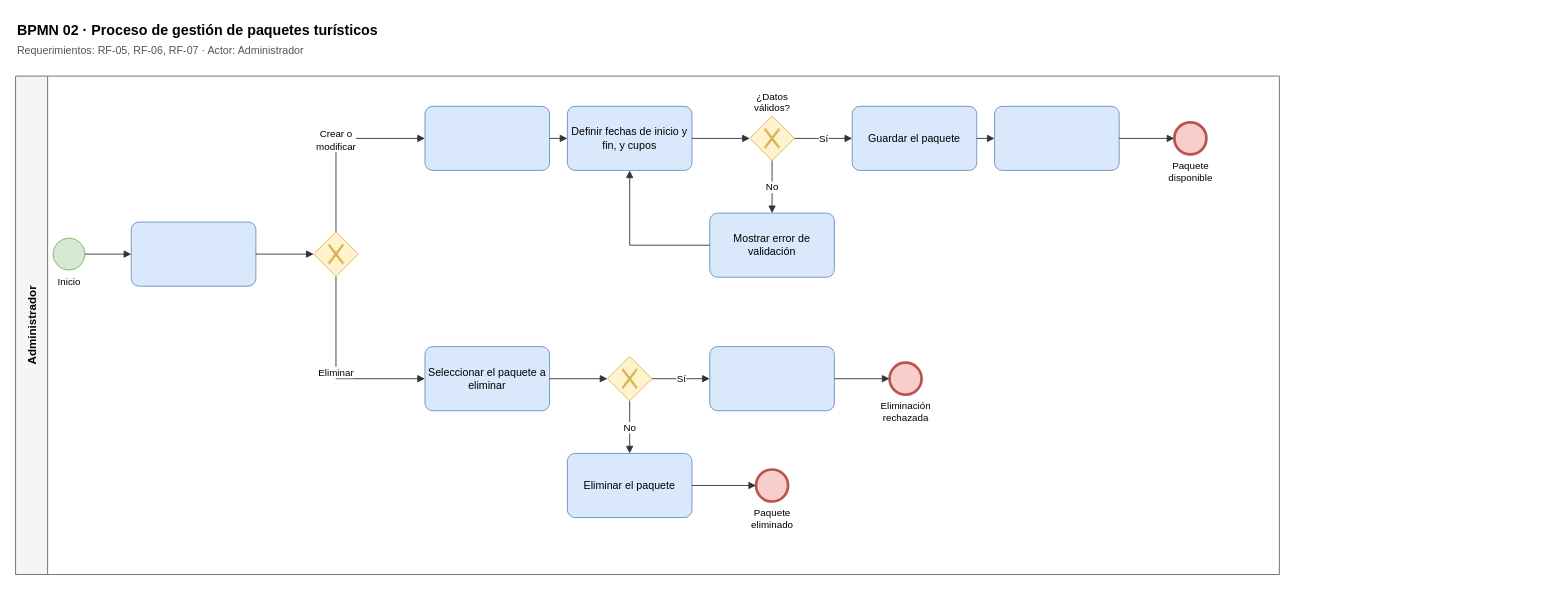
Image size: 1544x590. Some labels were removed from this diagram. Here are the shapes that lost their labels. From the top down, the centre of each, then its label:
point (487, 137): Seleccionar al menos 2 destinos y su orden de visita
point (1056, 137): Calcular y mostrar el costo total (suma de sus destinos)
point (193, 253): Iniciar sesión como administrador
point (335, 253): ¿Qué desea hacer?
point (629, 378): ¿Tiene reservas?
point (771, 378): Informar que no se puede eliminar
